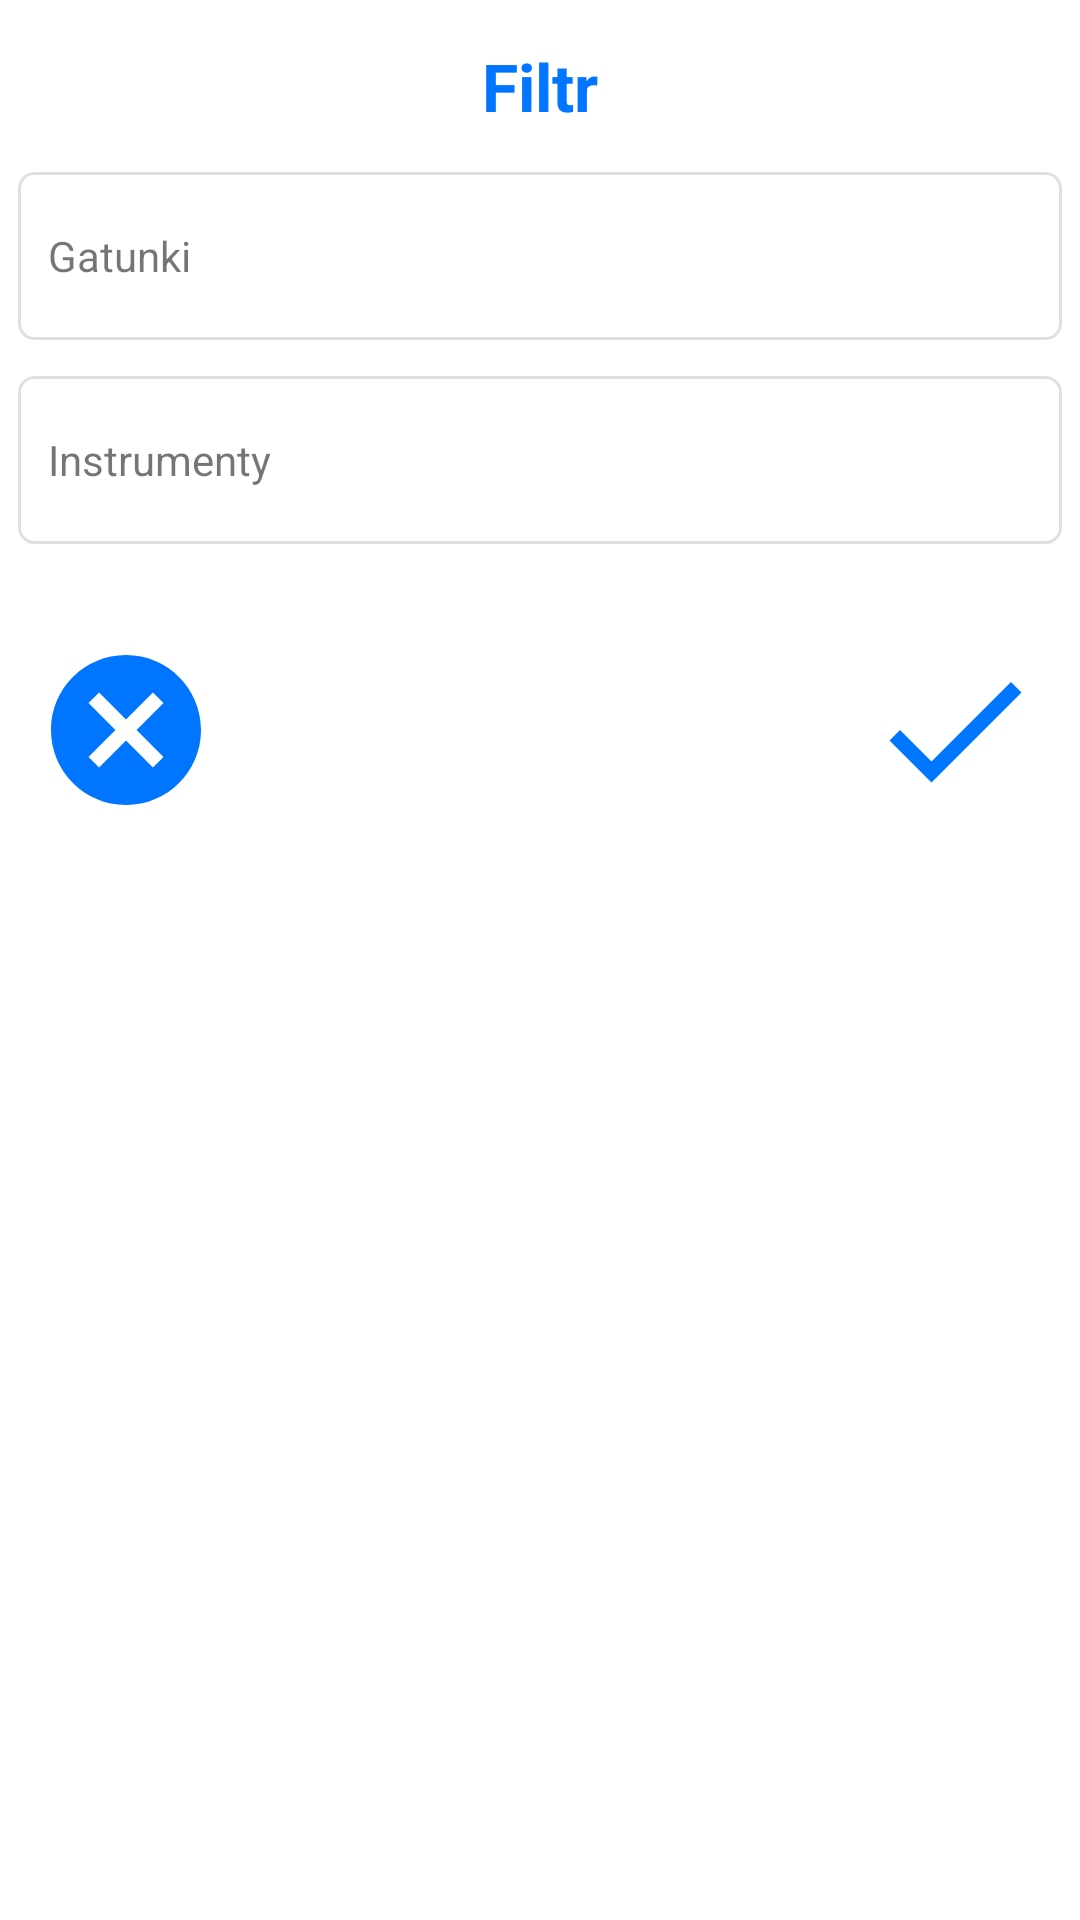

Where to tap for icons on this 1080px x 1920px app screen, as (x,y):
cancel: (126,730)
done: (955,732)
